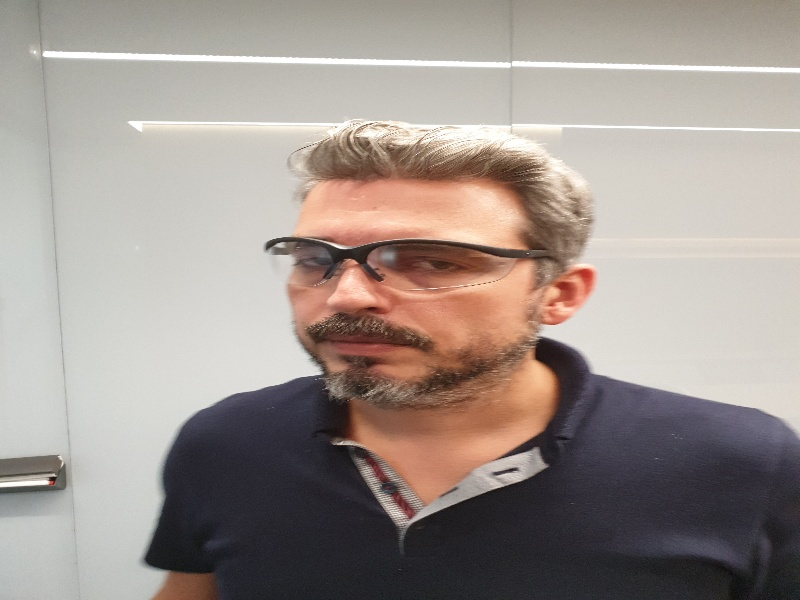Gozluk: (261, 235, 548, 291)
